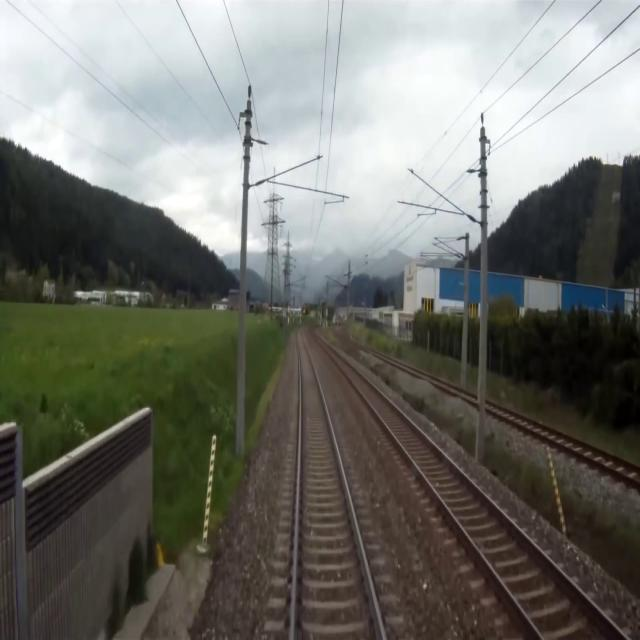rail-track: (321, 342, 621, 639), (293, 328, 382, 639), (486, 402, 640, 479), (453, 388, 477, 400)
